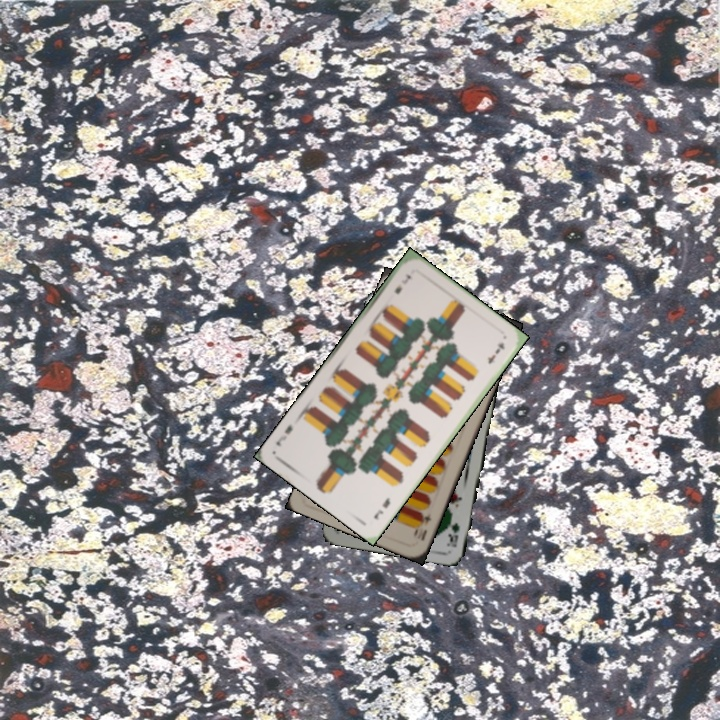E10: (409, 509, 434, 538)
E7: (370, 493, 393, 522), (390, 270, 413, 297)
GK: (445, 519, 462, 549)
